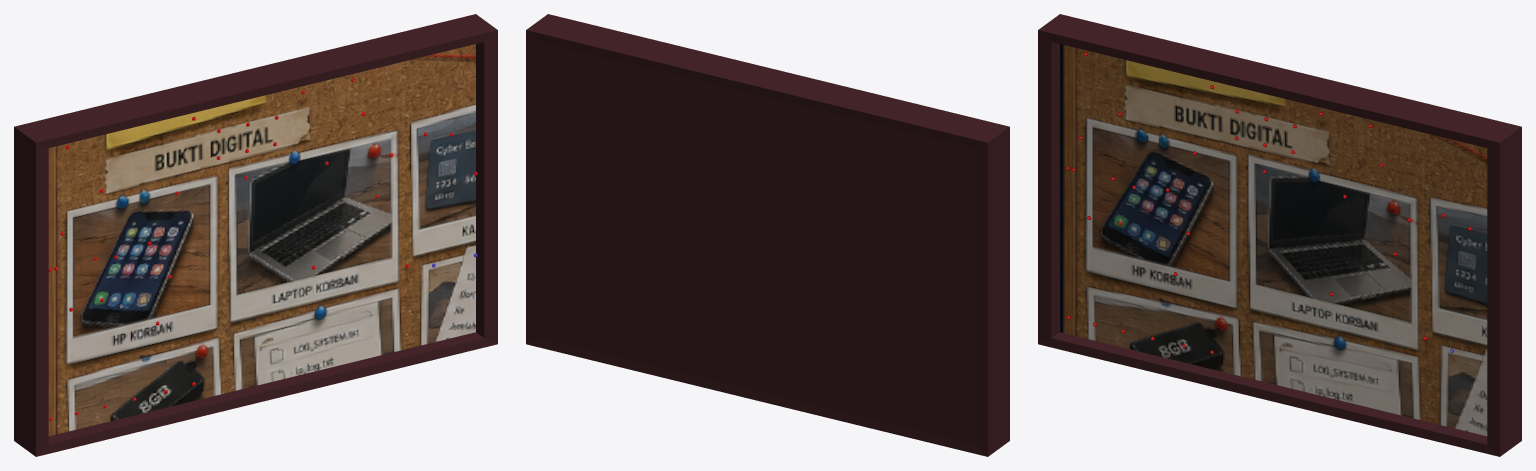
The model's file is PapanInvestigasi.fbx.
3 renders of one model, left to right at view 1: azimuth 30°, elevation 25°; view 2: azimuth 150°, elevation 25°; view 3: azimuth 330°, elevation 25°, orthographic.
Parts seen in each view (by area): view 1: Cube.004; view 2: Cube.004; view 3: Cube.004.
Boxes of the visible parts, x1,y1,x2,y2 form: Cube.004: (14, 14, 497, 456); Cube.004: (526, 14, 1009, 456); Cube.004: (1038, 14, 1521, 456).
Size of the model in its own units: 1323 by 860 by 109.
Materials: 6 (1 with a texture image).
